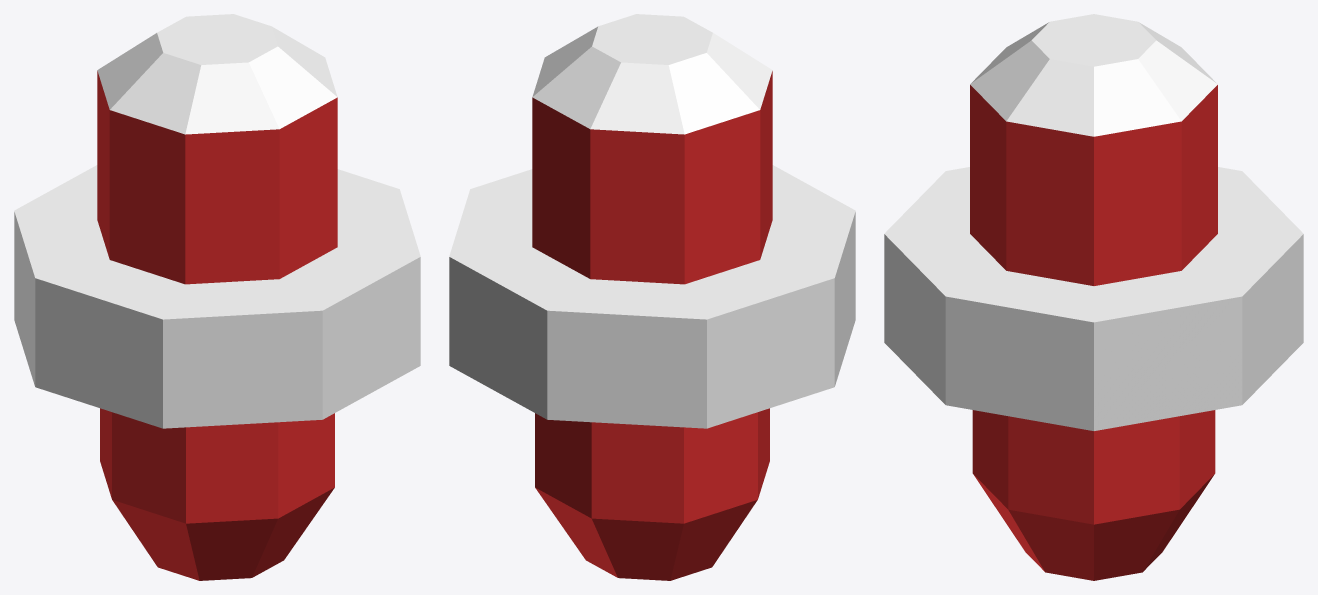
File: buoy.obj
The picture shows the model from 3 angles, left to right: view 1: azimuth 30°, elevation 25°; view 2: azimuth 150°, elevation 25°; view 3: azimuth 270°, elevation 25°; orthographic projection.
Bounding box in the file's own units: 4 × 5.38 × 4.
1 material, 1 textured.
